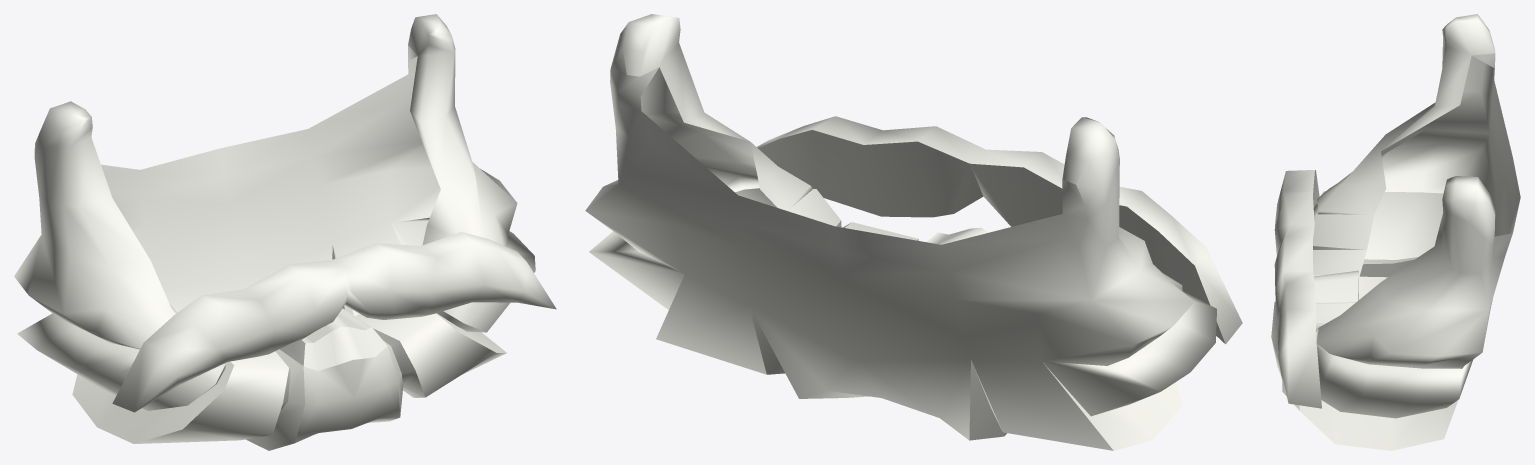
The model's file is Beard_White_16.fbx.
3 views of the same model, side by side, from view 1: azimuth 30°, elevation 25°; view 2: azimuth 150°, elevation 25°; view 3: azimuth 270°, elevation 25° (orthographic). The views are drawn at different scales.
Parts seen in each view (by area): view 1: Beard_White_16; view 2: Beard_White_16; view 3: Beard_White_16.
Part boxes in pixels (box(x1,y1,x2,y2)): Beard_White_16: box(14, 14, 556, 450); Beard_White_16: box(585, 14, 1242, 450); Beard_White_16: box(1271, 14, 1520, 450).
Bounding box in the file's own units: 61.15 × 39 × 30.01.
